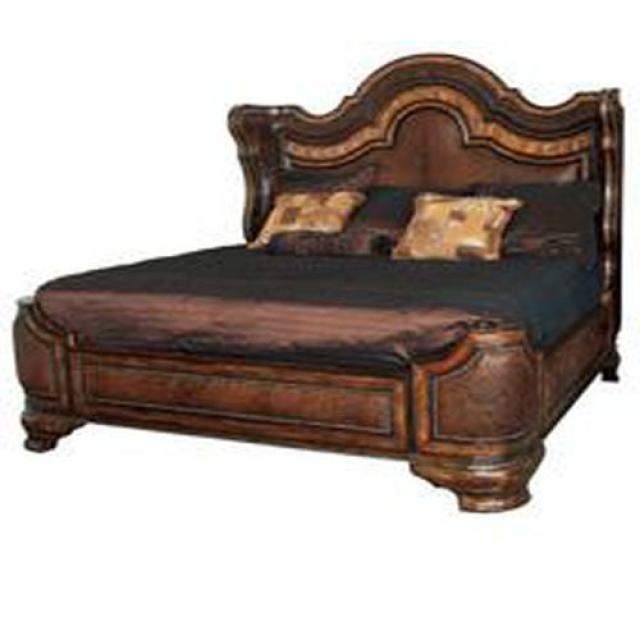bed: (12, 54, 625, 516)
